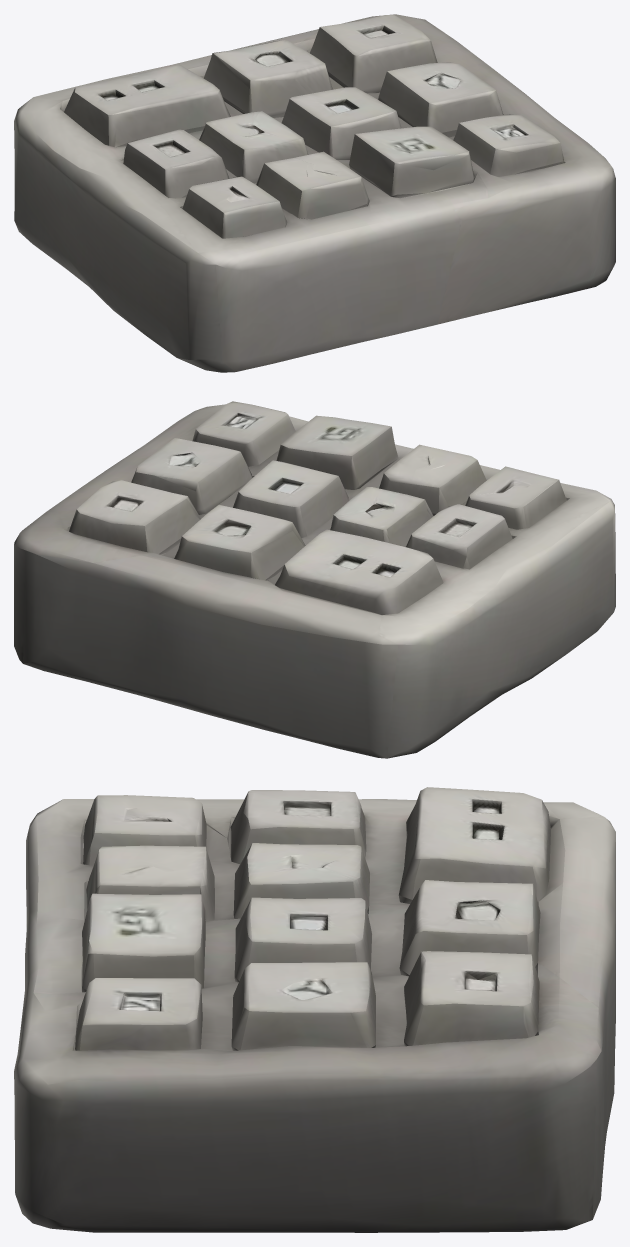
Rendered from m2KeyboardKeyV2.glb.
3 views of the same model, one above another, from view 1: azimuth 30°, elevation 25°; view 2: azimuth 150°, elevation 25°; view 3: azimuth 270°, elevation 25° (orthographic). The views are drawn at different scales.
Parts seen in each view (by area): view 1: model; view 2: model; view 3: model.
Boxes of the visible parts, x1=… form: model: x1=14, y1=14, x2=615, y2=372; model: x1=14, y1=401, x2=615, y2=758; model: x1=14, y1=787, x2=615, y2=1232.
Size of the model in its own units: 1.9 by 0.6375 by 1.7.
1 material, 1 textured.
